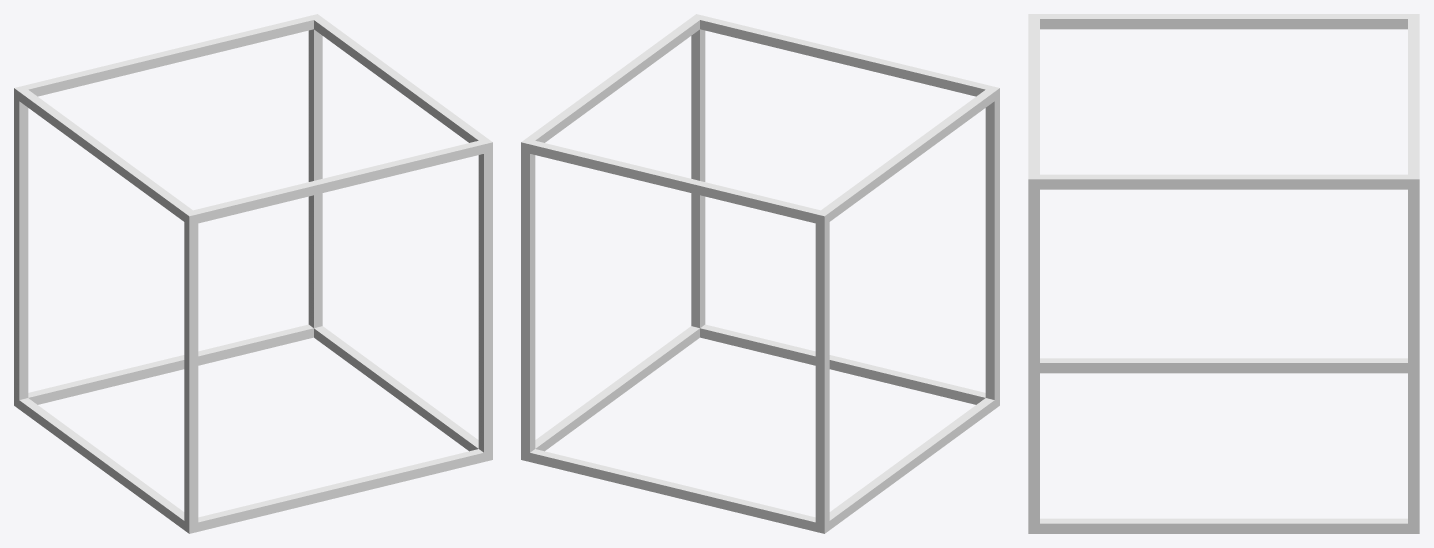
The model's file is connection-box.obj.
The picture shows the model from 3 angles, left to right: view 1: azimuth 30°, elevation 25°; view 2: azimuth 150°, elevation 25°; view 3: azimuth 270°, elevation 25°; orthographic projection. The views are drawn at different scales.
Parts seen in each view (by area): view 1: cube; view 2: cube; view 3: cube.
Boxes of the visible parts, x1,y1,x2,y2 form: cube: [14, 14, 492, 533]; cube: [521, 14, 999, 533]; cube: [1028, 14, 1419, 533].
Bounding box in the file's own units: 1.06 × 1.06 × 1.06.
1 material, 1 textured.
